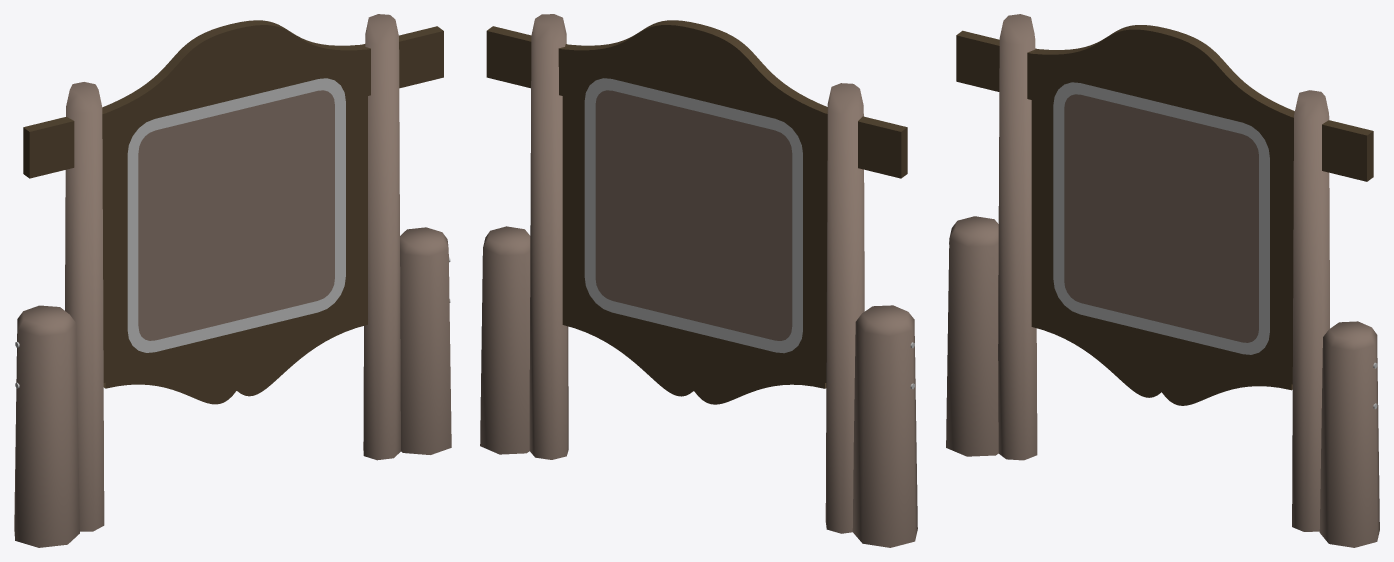
3 views of the same model, side by side, from view 1: azimuth 30°, elevation 25°; view 2: azimuth 150°, elevation 25°; view 3: azimuth 330°, elevation 25° (orthographic).
Parts seen in each view (by area): view 1: Sign_Board_Half1, Sign_Board_Half2, Sign_Post3, Sign_Post1, Sign_Post4, Sign_Post2; view 2: Sign_Board_Half1, Sign_Board_Half2, Sign_Post3, Sign_Post1, Sign_Post4, Sign_Post2; view 3: Sign_Board_Half2, Sign_Board_Half1, Sign_Post4, Sign_Post3, Sign_Post2, Sign_Post1.
Boxes of the visible parts, x1,y1,x2,y2 form: Sign_Board_Half1: (23,24,236,404); Sign_Board_Half2: (230,20,443,396); Sign_Post3: (363,14,400,460); Sign_Post1: (14,305,79,547); Sign_Post4: (65,82,104,531); Sign_Post2: (400,227,451,454); Sign_Board_Half1: (694,24,907,404); Sign_Board_Half2: (486,20,699,396); Sign_Post3: (529,14,568,459); Sign_Post1: (852,305,917,547); Sign_Post4: (825,83,864,533); Sign_Post2: (480,226,530,454); Sign_Board_Half2: (1161,29,1373,405); Sign_Board_Half1: (956,25,1167,397); Sign_Post4: (998,14,1037,460); Sign_Post3: (1292,90,1329,531); Sign_Post2: (1319,321,1379,547); Sign_Post1: (946,216,998,456).
Size of the model in its own units: 1975 by 2008 by 256.
